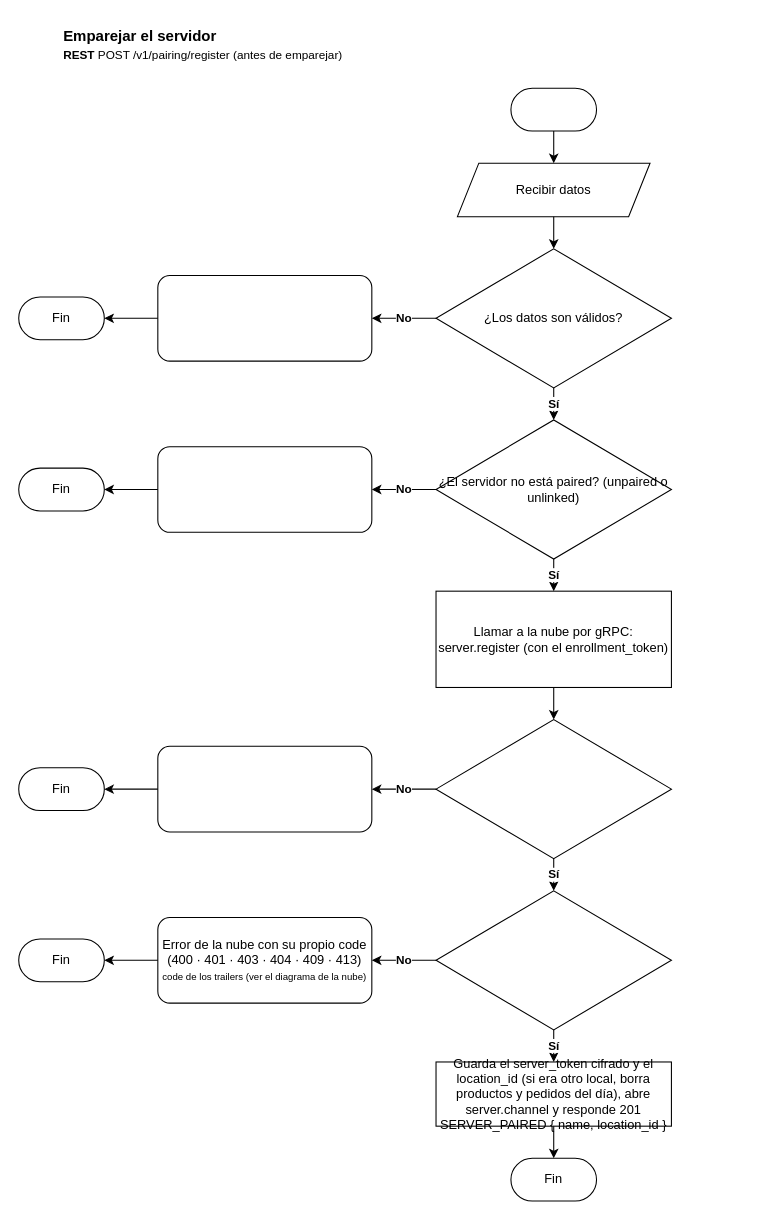
Some shapes in this 765 by 1220 pixel diagram are drawn without their labels. The shapes that lost their labels are listed below. From the top down, each one's centre as x and y in pixels, then its label:
At point 553,109: "Inicio".
At point 264,317: "Datos inválidos (400) ERROR_BAD_REQUEST".
At point 264,489: "El servidor ya está emparejado (409) ERROR_SERVER_ALREADY_PAIRED".
At point 264,788: "La nube no responde (503) ERROR_CLOUD_UNAVAILABLE · ERROR_SERVER_UNLINKED".
At point 553,789: "¿La nube responde antes de 10 s?".
At point 553,960: "¿La nube acepta la petición?".
